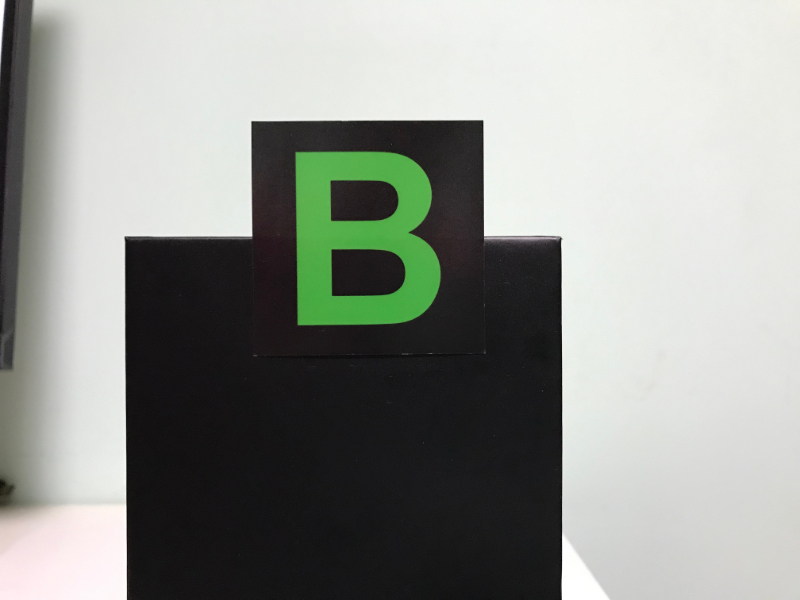B-12: (254, 125, 482, 352)
